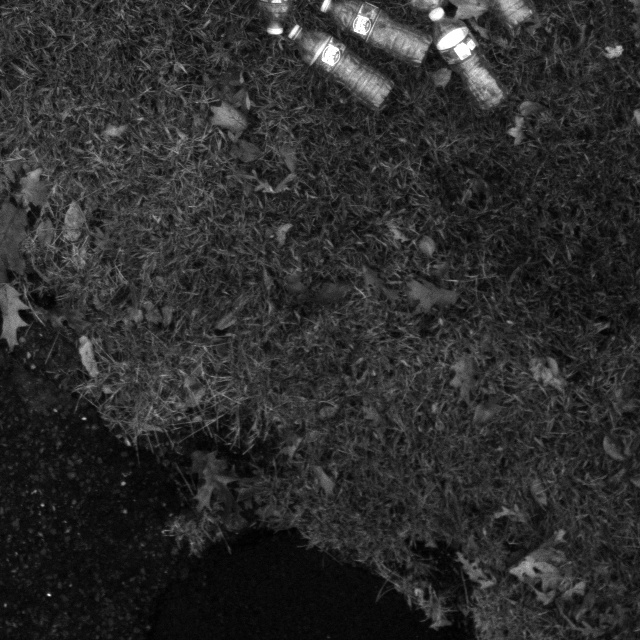bottle: (278, 22, 388, 108), (426, 15, 505, 105), (311, 0, 431, 55)
